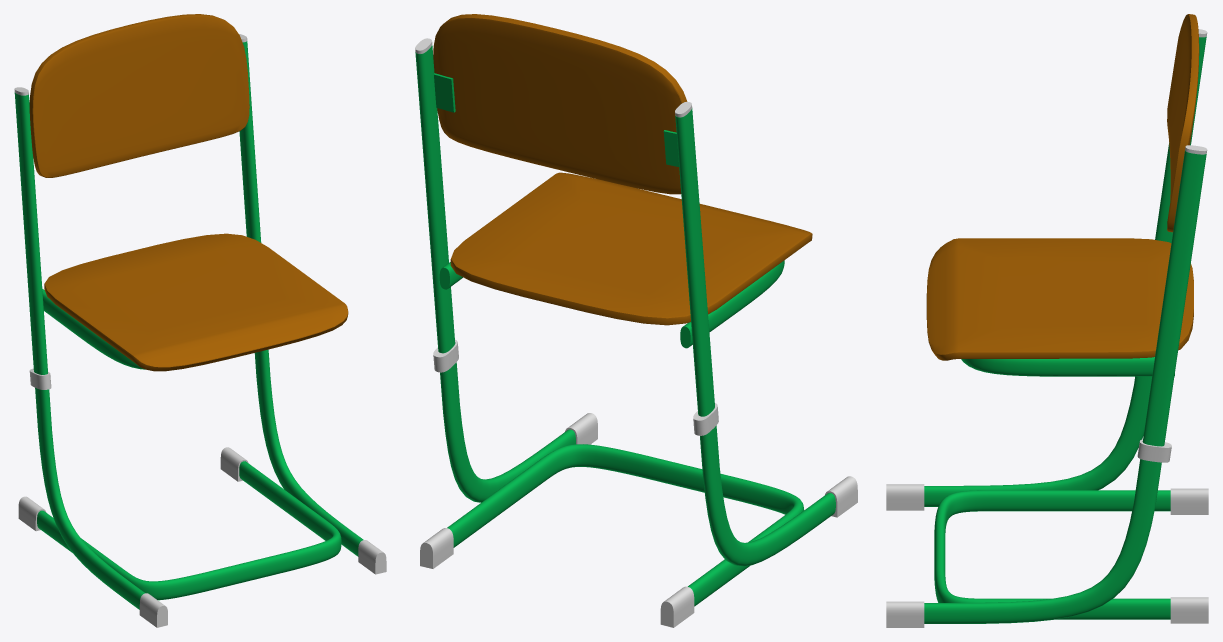
File: zidle.fbx
The picture shows the model from 3 angles, left to right: view 1: azimuth 30°, elevation 25°; view 2: azimuth 150°, elevation 25°; view 3: azimuth 270°, elevation 25°; orthographic projection. The views are drawn at different scales.
Parts seen in each view (by area): view 1: kovovy-ram; view 2: kovovy-ram; view 3: kovovy-ram.
Boxes of the visible parts, left/top/right/bottom form: kovovy-ram: left=14, top=14, right=386, bottom=627; kovovy-ram: left=415, top=14, right=857, bottom=627; kovovy-ram: left=886, top=14, right=1208, bottom=627.
Bounding box in the file's own units: 56.9 × 112 × 62.78.
